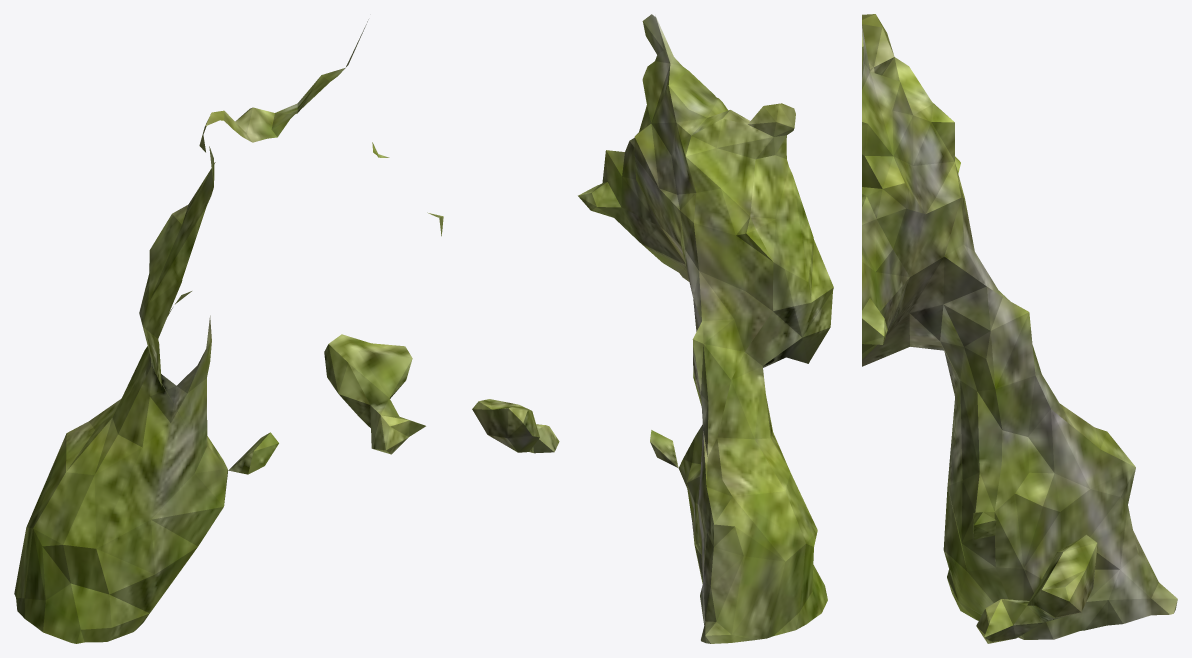
3 views of the same model, side by side, from view 1: azimuth 30°, elevation 25°; view 2: azimuth 150°, elevation 25°; view 3: azimuth 270°, elevation 25° (orthographic). The views are drawn at different scales.
Bounding box in the file's own units: 1.44 × 2.11 × 0.8688.
1 material, 1 textured.
